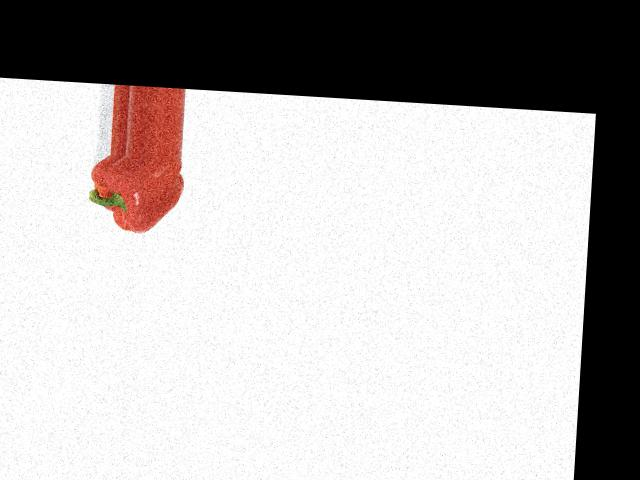bell_pepper: (74, 152, 195, 236)
